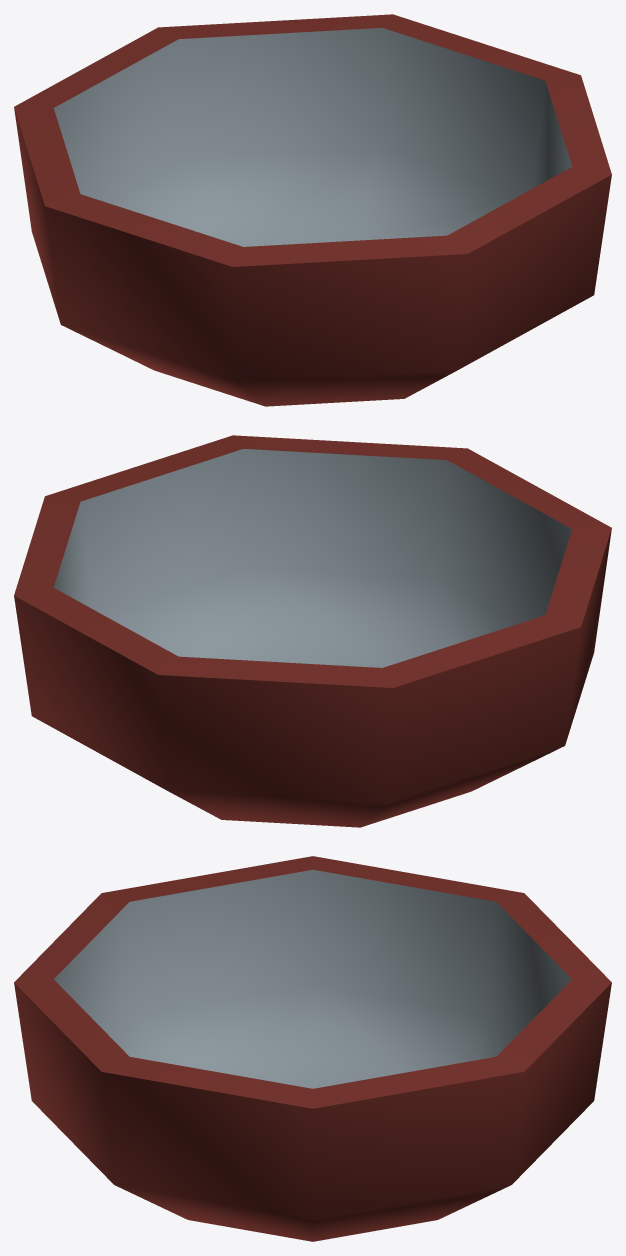
Rendered from SM_Prop_Dishes_04.obj.
The picture shows the model from 3 angles, top to bottom: view 1: azimuth 30°, elevation 25°; view 2: azimuth 150°, elevation 25°; view 3: azimuth 270°, elevation 25°; orthographic projection. The views are drawn at different scales.
Parts seen in each view (by area): view 1: SM_Prop_Dishes_04_Mat_SwatchOverlay_PolygonOffice_01_Inst; view 2: SM_Prop_Dishes_04_Mat_SwatchOverlay_PolygonOffice_01_Inst; view 3: SM_Prop_Dishes_04_Mat_SwatchOverlay_PolygonOffice_01_Inst.
Part boxes in pixels (bbox=[...]): SM_Prop_Dishes_04_Mat_SwatchOverlay_PolygonOffice_01_Inst: bbox=[14, 14, 611, 406]; SM_Prop_Dishes_04_Mat_SwatchOverlay_PolygonOffice_01_Inst: bbox=[14, 435, 611, 827]; SM_Prop_Dishes_04_Mat_SwatchOverlay_PolygonOffice_01_Inst: bbox=[14, 856, 611, 1241].
Bounding box in the file's own units: 0.2582 × 0.0895 × 0.2582.
1 material, 1 textured.
